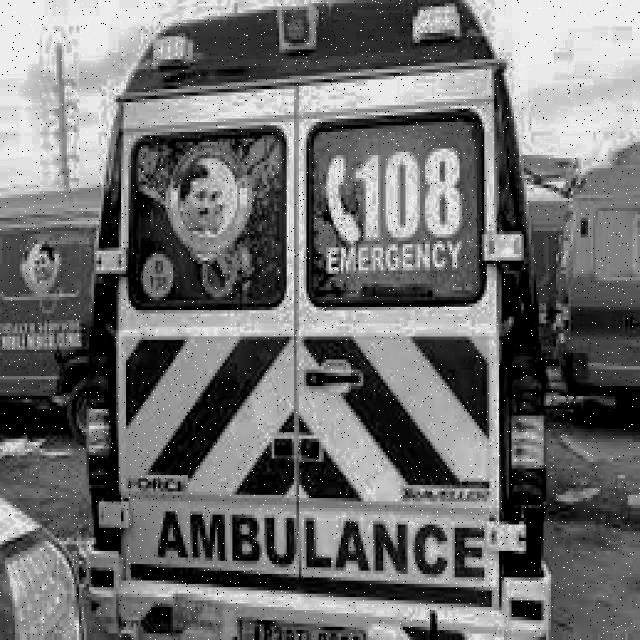LCV: (88, 0, 547, 623)
